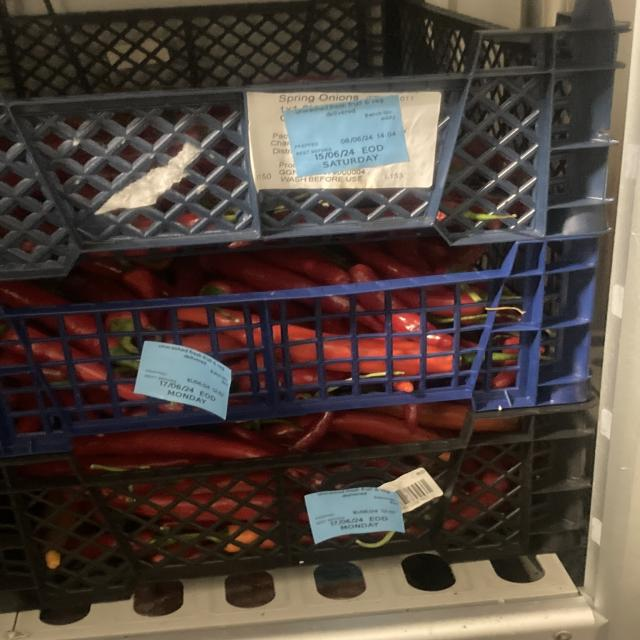product-labels: (283, 94, 407, 178), (132, 339, 238, 417), (305, 480, 405, 546)
